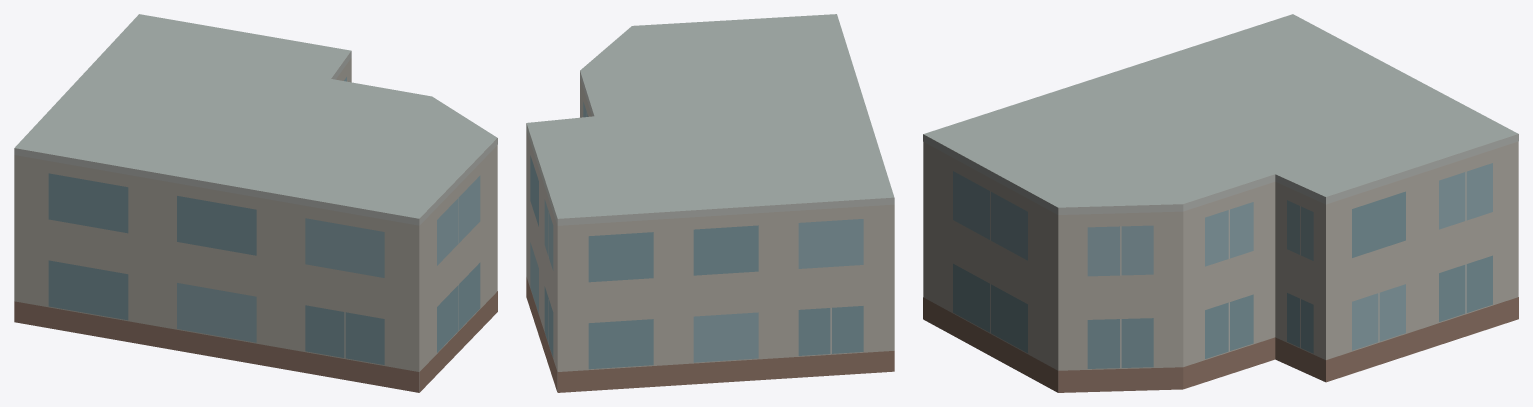
Rendered from survey-upis-32640982.glb.
3 views of the same model, side by side, from view 1: azimuth 30°, elevation 25°; view 2: azimuth 150°, elevation 25°; view 3: azimuth 270°, elevation 25° (orthographic). The views are drawn at different scales.
Visible parts, largest first — view 1: survey-upis-32640982.tmp; view 2: survey-upis-32640982.tmp; view 3: survey-upis-32640982.tmp.
Boxes of the visible parts, bbox=[...] form: survey-upis-32640982.tmp: bbox=[14, 14, 497, 392]; survey-upis-32640982.tmp: bbox=[526, 14, 894, 392]; survey-upis-32640982.tmp: bbox=[923, 14, 1518, 392].
Bounding box in the file's own units: 13.69 × 6.1 × 17.79.
